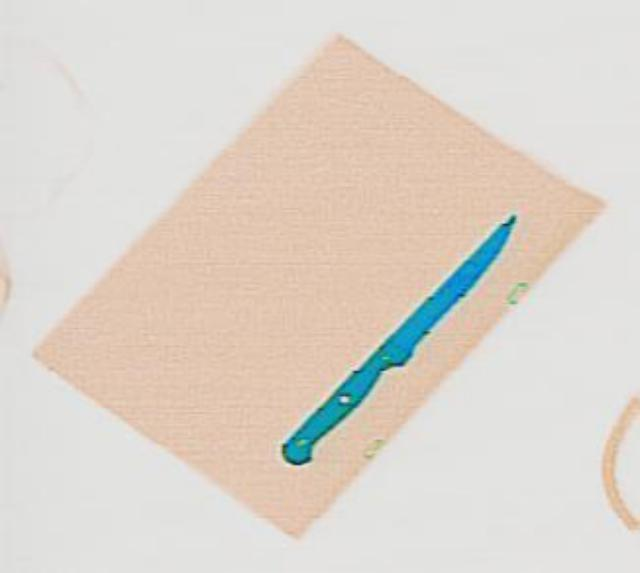Knife: (266, 203, 534, 472)
